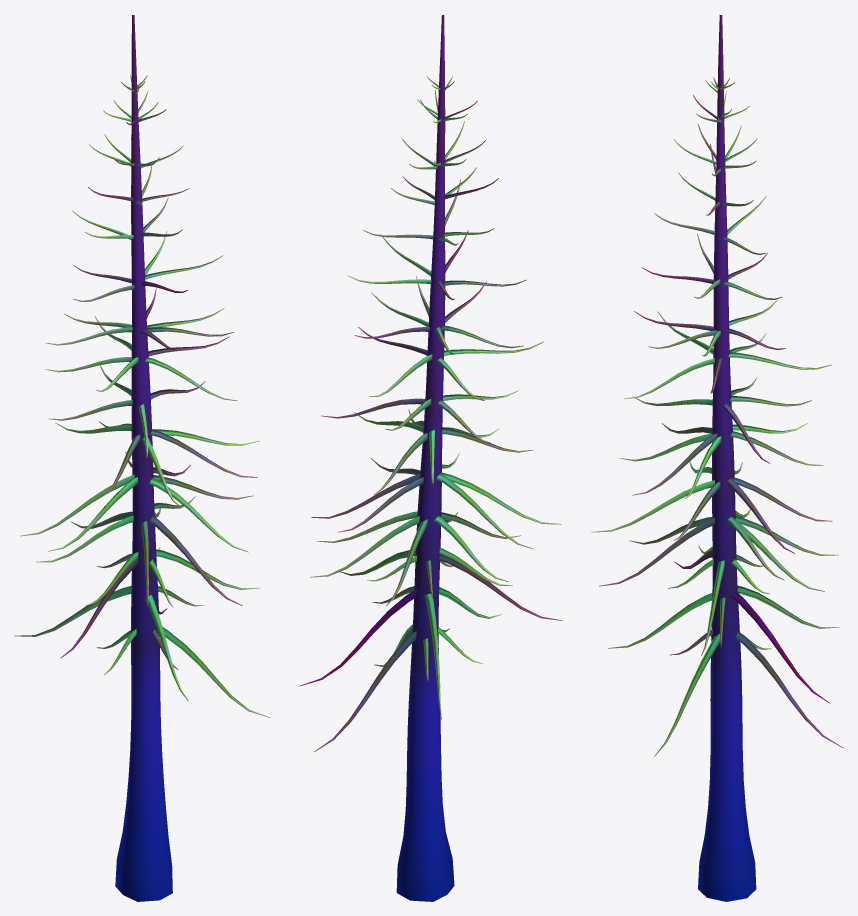
File: spruce-grove-d.glb
3 renders of one model, left to right at view 1: azimuth 30°, elevation 25°; view 2: azimuth 150°, elevation 25°; view 3: azimuth 270°, elevation 25°, orthographic.
Parts seen in each view (by area): view 1: bark; view 2: bark; view 3: bark.
Boxes of the visible parts, left/top/right/bottom form: bark: left=14, top=15, right=270, bottom=901; bark: left=299, top=15, right=562, bottom=901; bark: left=591, top=15, right=843, bottom=901.
Bounding box in the file's own units: 4.03 × 15.45 × 4.08.
